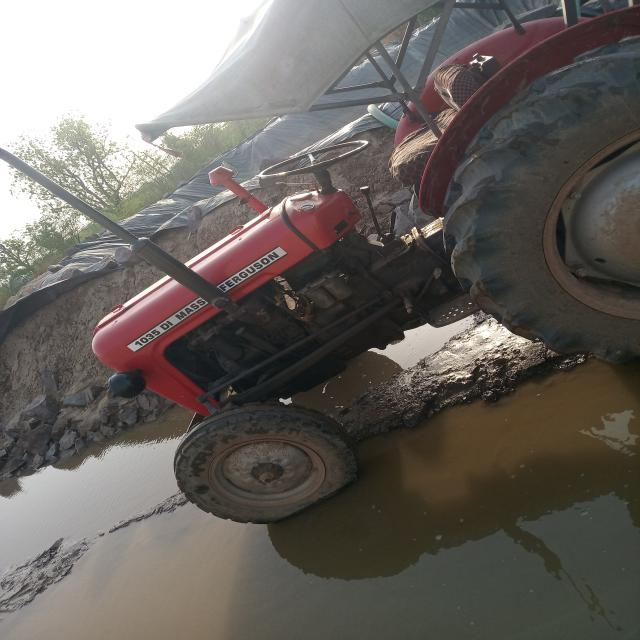tractor: (107, 0, 640, 523)
